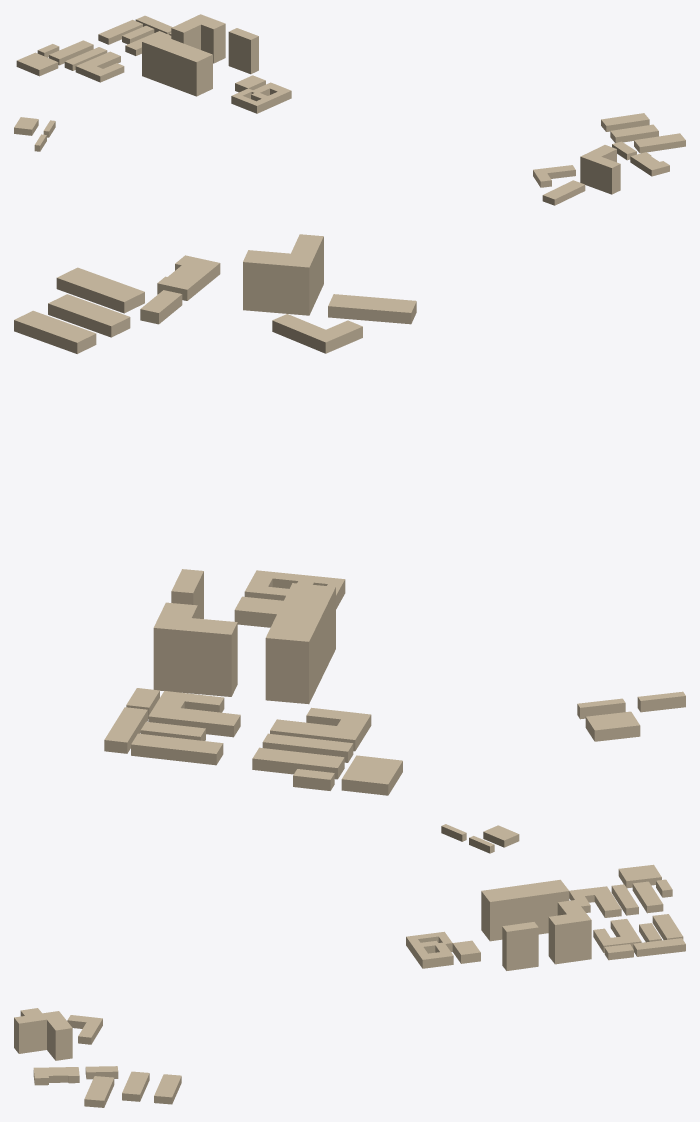
Rendered from -7_18-estimated-coarse.glb.
3 renders of one model, top to bottom at view 1: azimuth 30°, elevation 25°; view 2: azimuth 150°, elevation 25°; view 3: azimuth 270°, elevation 25°, orthographic. The views are drawn at different scales.
Size of the model in its own units: 997 by 66 by 1023.
